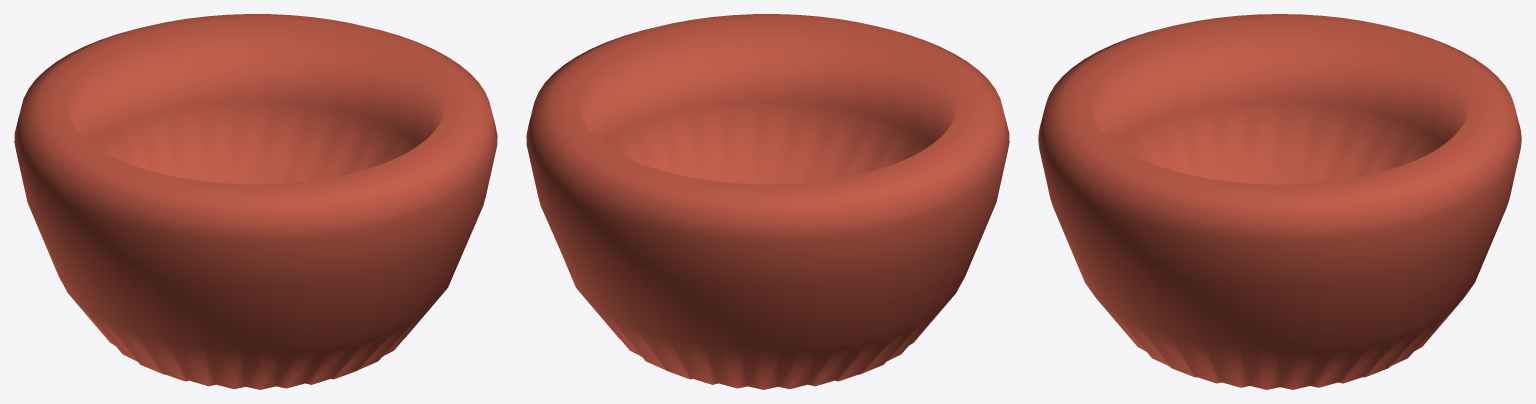
The model's file is MDa .fbx.
The picture shows the model from 3 angles, left to right: view 1: azimuth 30°, elevation 25°; view 2: azimuth 150°, elevation 25°; view 3: azimuth 270°, elevation 25°; orthographic projection.
Parts seen in each view (by area): view 1: Circle.015; view 2: Circle.015; view 3: Circle.015.
Boxes of the visible parts, box(x1,y1,x2,y2) form: Circle.015: box(14, 14, 497, 389); Circle.015: box(526, 14, 1009, 389); Circle.015: box(1038, 14, 1521, 389).
Bounding box in the file's own units: 31.21 × 18.92 × 31.21.
